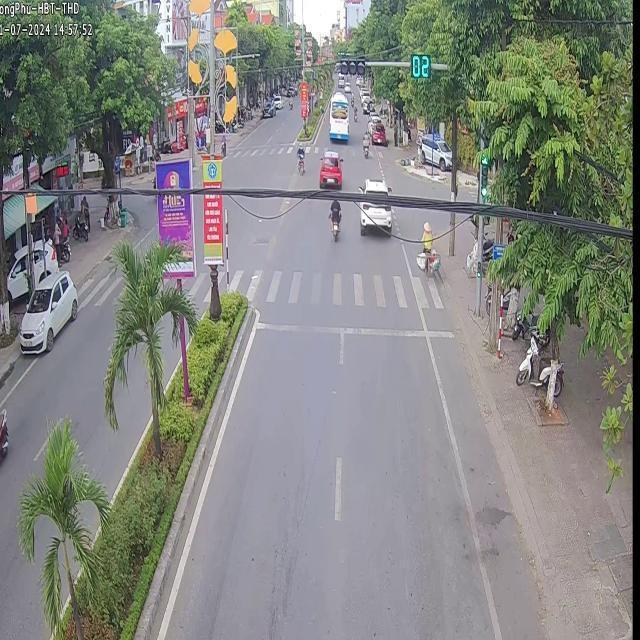car: (358, 200, 390, 234), (327, 89, 347, 138), (318, 149, 340, 187), (358, 178, 388, 195)
green_light: (338, 54, 364, 74), (479, 151, 487, 196)
motobike: (328, 198, 339, 238)
stop_line: (254, 319, 454, 335)
